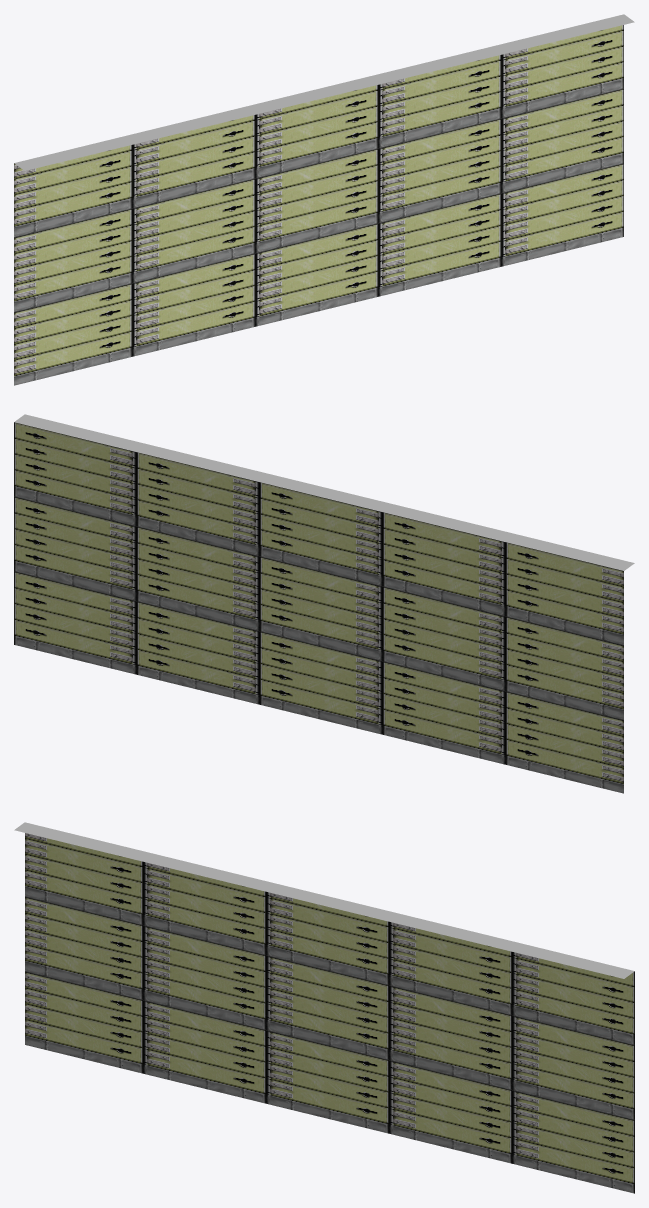
File: W_I3_xxxx [Schließfächer]_150.glb
3 renders of one model, top to bottom at view 1: azimuth 30°, elevation 25°; view 2: azimuth 150°, elevation 25°; view 3: azimuth 330°, elevation 25°, orthographic.
Parts seen in each view (by area): view 1: pPlaneShape3, pPlaneShape1; view 2: pPlaneShape3, pPlaneShape1; view 3: pPlaneShape3, pPlaneShape1.
Boxes of the visible parts, box(x1,y1,x2,y2) form: pPlaneShape3: box(14, 25, 623, 385); pPlaneShape1: box(14, 14, 634, 170); pPlaneShape3: box(14, 422, 623, 793); pPlaneShape1: box(14, 414, 634, 570); pPlaneShape3: box(25, 833, 634, 1193); pPlaneShape1: box(14, 822, 634, 978).
Bounding box in the file's own units: 1 × 0.3486 × 0.0308.
2 materials, 1 textured.
